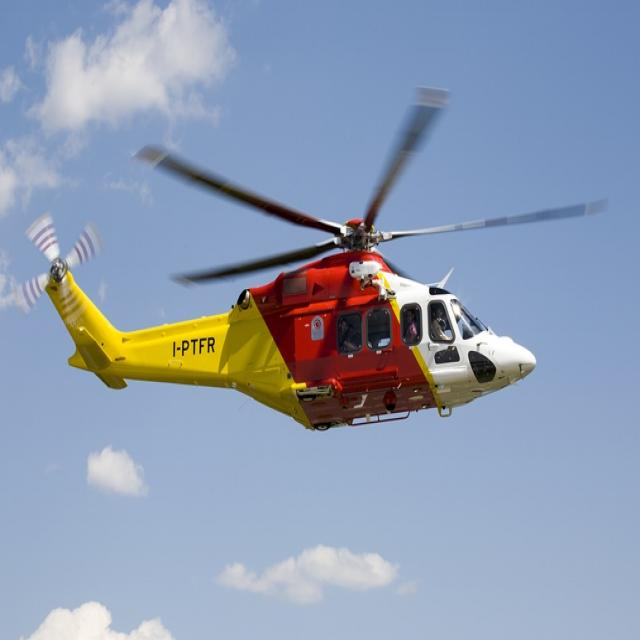helicopter: (10, 58, 617, 500)
